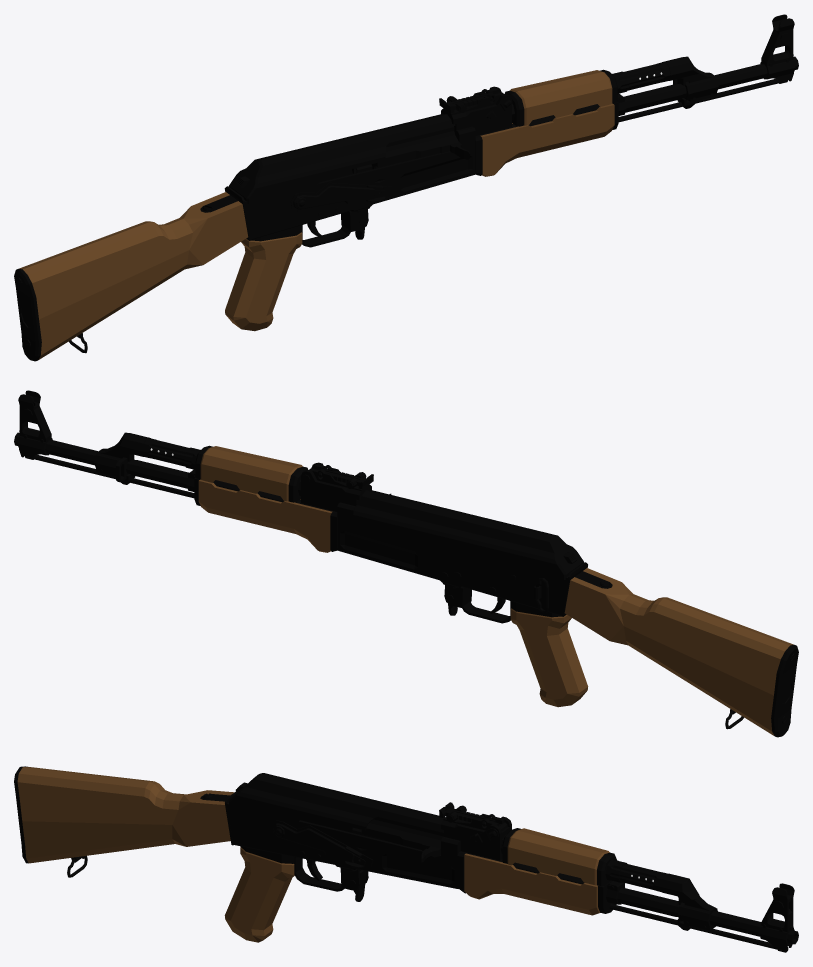
3 renders of one model, top to bottom at view 1: azimuth 30°, elevation 25°; view 2: azimuth 150°, elevation 25°; view 3: azimuth 330°, elevation 25°, orthographic.
Parts seen in each view (by area): view 1: ak-47_6 (×2), ak47 bolt carrier_4, ak47 selector_8; view 2: ak-47_6 (×2); view 3: ak-47_6 (×2), ak47 bolt carrier_4, ak47 selector_8.
Boxes of the visible parts, <box> form: ak-47_6 (×2): <box>14,14,798,361</box>; ak47 bolt carrier_4: <box>352,126,470,173</box>; ak47 selector_8: <box>290,182,392,211</box>; ak-47_6 (×2): <box>14,390,798,737</box>; ak-47_6 (×2): <box>14,766,798,952</box>; ak47 bolt carrier_4: <box>352,816,443,863</box>; ak47 selector_8: <box>272,820,372,868</box>.
Size of the model in its own units: 8.38 by 1.86 by 0.7097.
